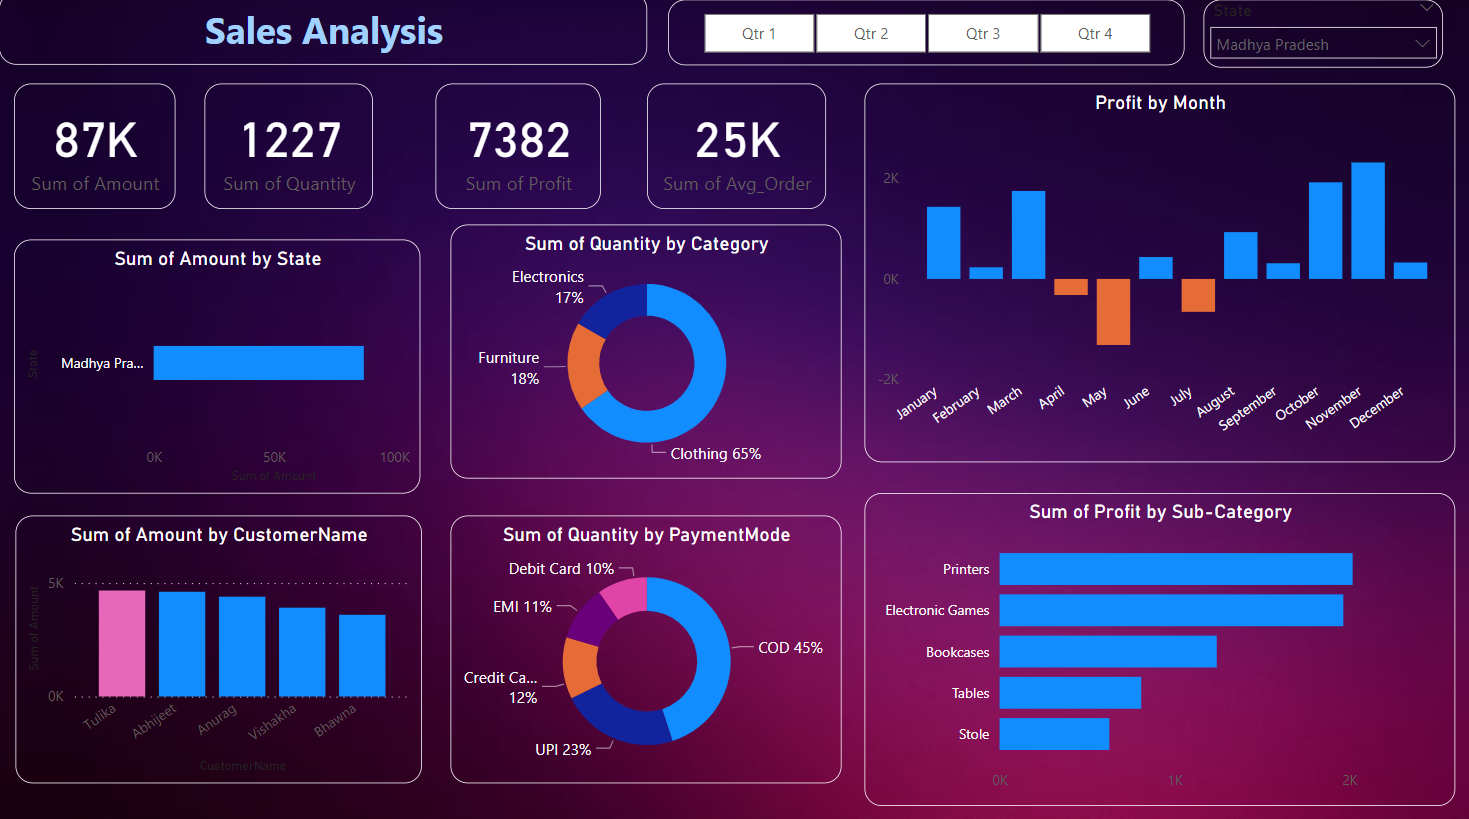

What the dashboard file says about the page in this screenshot:
{"tool":"powerbi","page":{"name":"Page 1","canvas":[1280,720],"ordinal":0},"visuals":[{"type":"textbox","box":[0,0,564.8,63.6],"z":0},{"type":"columnChart","title":"Profit by Month","fields":{"Y":["Details.Profit"],"Category":["Orders.Order Date.Variation.Date Hierarchy.Month"]},"box":[754.1,80.3,514.8,330.1],"z":1000},{"type":"barChart","fields":{"Category":["Details.Sub-Category"],"Y":["Details.Profit"]},"box":[754.1,436.1,514.8,272.6],"z":2000},{"type":"donutChart","fields":{"Category":["Details.Category"],"Y":["Details.Quantity"]},"box":[393.7,202.9,340.7,221.1],"z":3000},{"type":"donutChart","fields":{"Category":["Details.PaymentMode"],"Y":["Details.Quantity"]},"box":[393.7,455.8,340.7,233.2],"z":4000},{"type":"card","fields":{"Values":["Details.Amount"]},"box":[13.6,80.3,140.8,109],"z":5000},{"type":"card","fields":{"Values":["Details.Quantity"]},"box":[178.7,80.3,146.9,109],"z":6000},{"type":"card","fields":{"Values":["Details.Avg_Order"]},"box":[564.8,80.3,156,109],"z":7000},{"type":"card","fields":{"Values":["Details.Profit"]},"box":[380.1,80.3,143.8,109],"z":8000},{"type":"barChart","fields":{"Category":["Orders.State"],"Y":["Details.Amount"]},"box":[13.6,215,354.3,221.1],"z":9000},{"type":"columnChart","fields":{"Category":["Orders.CustomerName"],"Y":["Details.Amount"]},"box":[14,456,354,233],"z":10000},{"type":"slicer","fields":{"Values":["Orders.Order Date.Variation.Date Hierarchy.Quarter"]},"box":[583,6.1,449.7,57.5],"z":11000},{"type":"slicer","fields":{"Values":["Orders.State"]},"box":[1049.3,6.1,209,59.1],"z":12000}]}

Visuals, with their boxes in screenshot pixels (x1, y1, x2, y2), scaled from the page's 1280x720 canvas onto the 1469x819 screenshot:
textbox: Rect(0, 0, 648, 72)
"Profit by Month" columnChart: Rect(865, 91, 1456, 467)
barChart - Details.Sub-Category x Details.Profit: Rect(865, 496, 1456, 806)
donutChart - Details.Category x Details.Quantity: Rect(452, 231, 843, 482)
donutChart - Details.PaymentMode x Details.Quantity: Rect(452, 518, 843, 784)
card - Details.Amount: Rect(16, 91, 177, 215)
card - Details.Quantity: Rect(205, 91, 374, 215)
card - Details.Avg_Order: Rect(648, 91, 827, 215)
card - Details.Profit: Rect(436, 91, 601, 215)
barChart - Orders.State x Details.Amount: Rect(16, 245, 422, 496)
columnChart - Orders.CustomerName x Details.Amount: Rect(16, 519, 422, 784)
slicer - Orders.Order Date.Variation.Date Hierarchy.Quarter: Rect(669, 7, 1185, 72)
slicer - Orders.State: Rect(1204, 7, 1444, 74)
